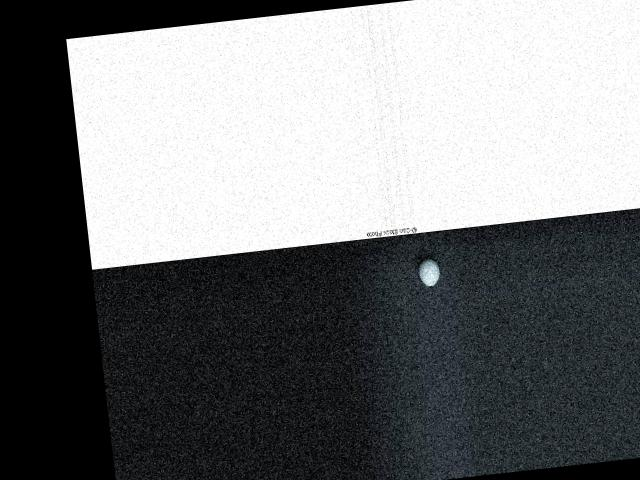egg: (417, 257, 441, 287)
